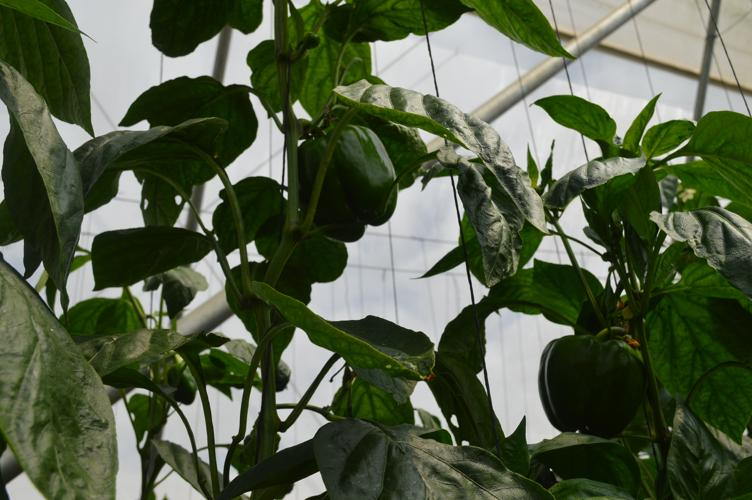BellPepper: (293, 126, 400, 241), (528, 335, 647, 436)
